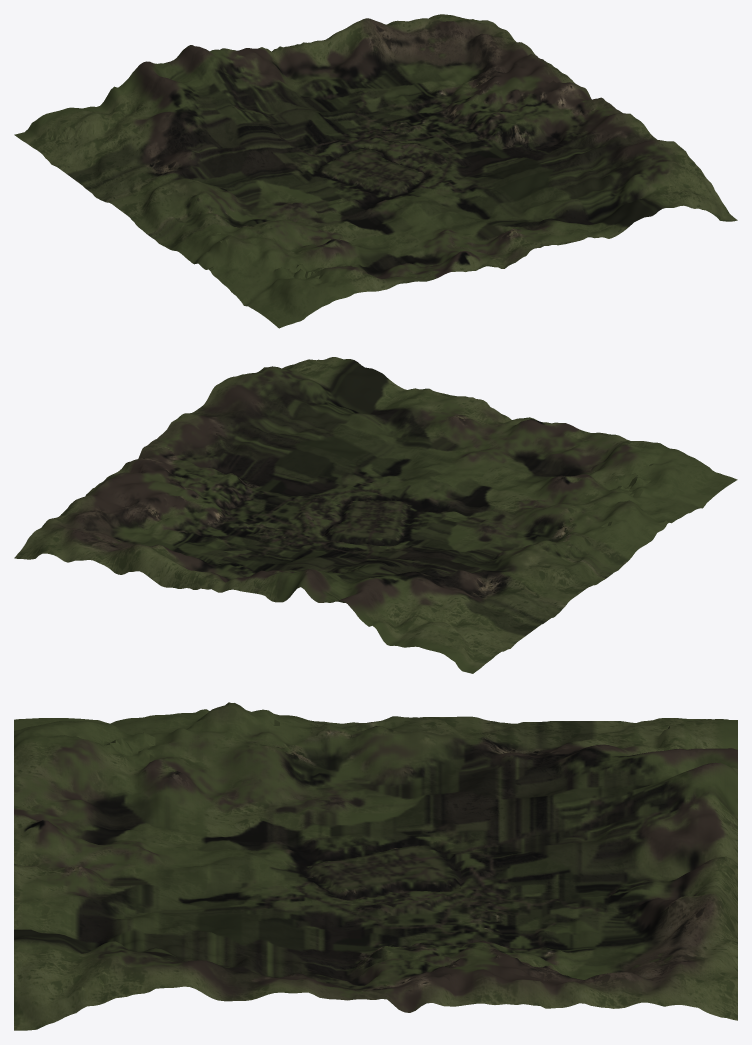
Rendered from green mesh.FBX.
3 renders of one model, top to bottom at view 1: azimuth 30°, elevation 25°; view 2: azimuth 150°, elevation 25°; view 3: azimuth 270°, elevation 25°, orthographic. The views are drawn at different scales.
Parts seen in each view (by area): view 1: Terrain (1); view 2: Terrain (1); view 3: Terrain (1).
Boxes of the visible parts, x1,y1,x2,y2 form: Terrain (1): (14,14,737,328); Terrain (1): (14,357,737,673); Terrain (1): (14,702,737,1030).
Bounding box in the file's own units: 3727 × 436 × 3727.
Materials: 1 (1 with a texture image).
